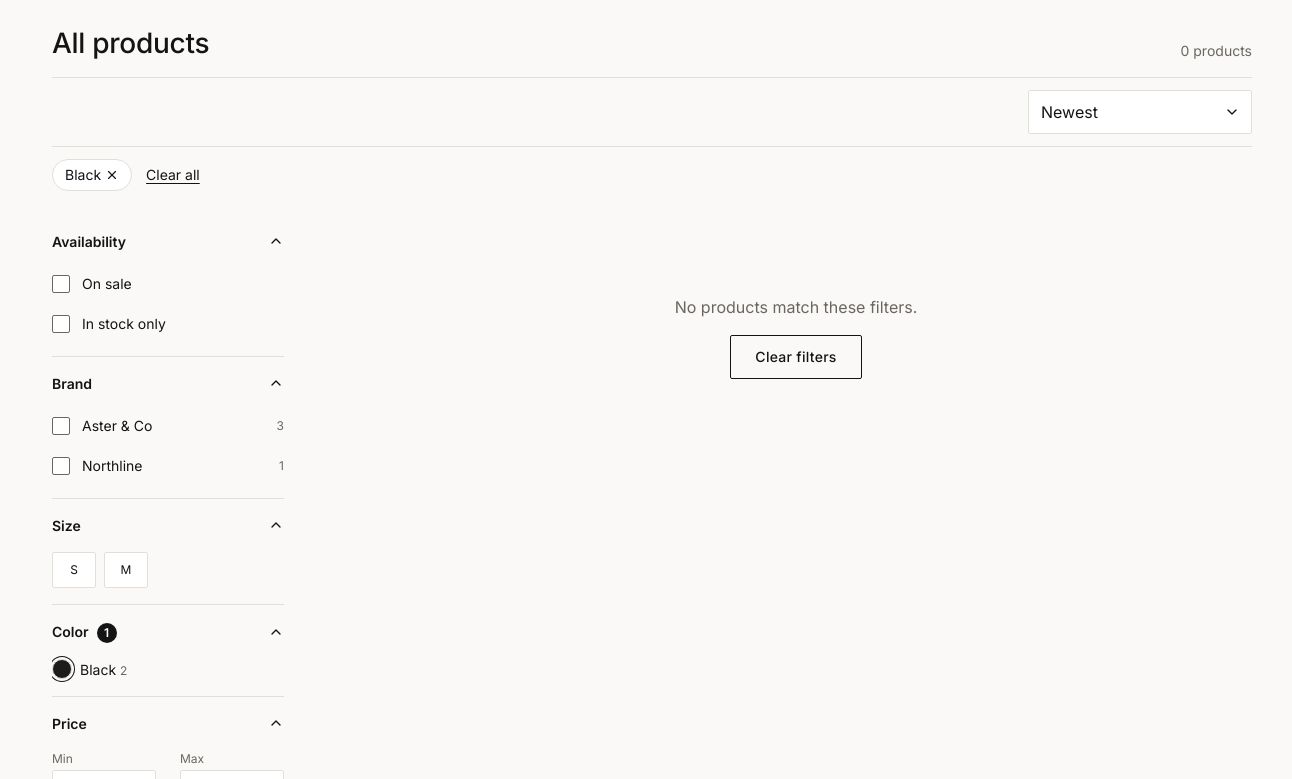
it: ProductList › offers to clear filters when nothing matches
Click the button "Clear filters".
click(796, 357)  # box [730,335,862,379]
(page scrolled)
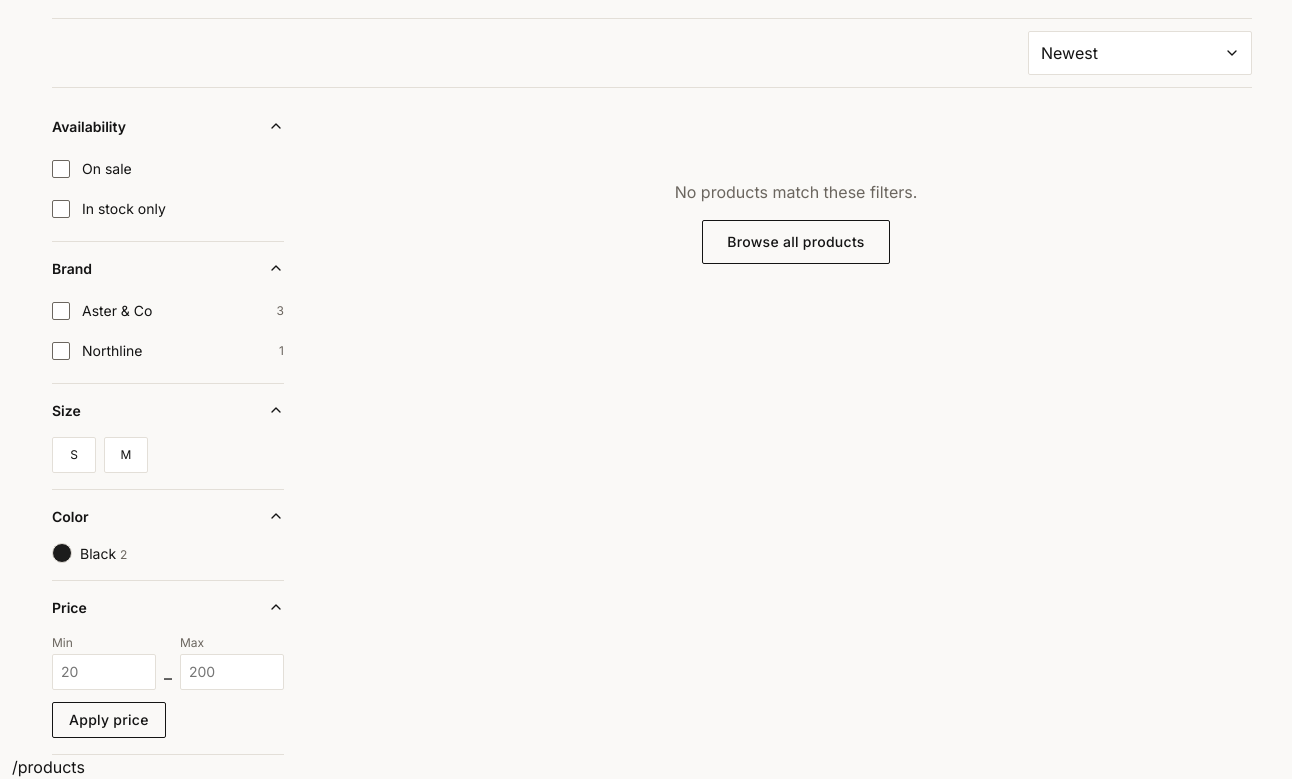
Check: the text named "current url" reads "/products", box [12,757,85,777]
